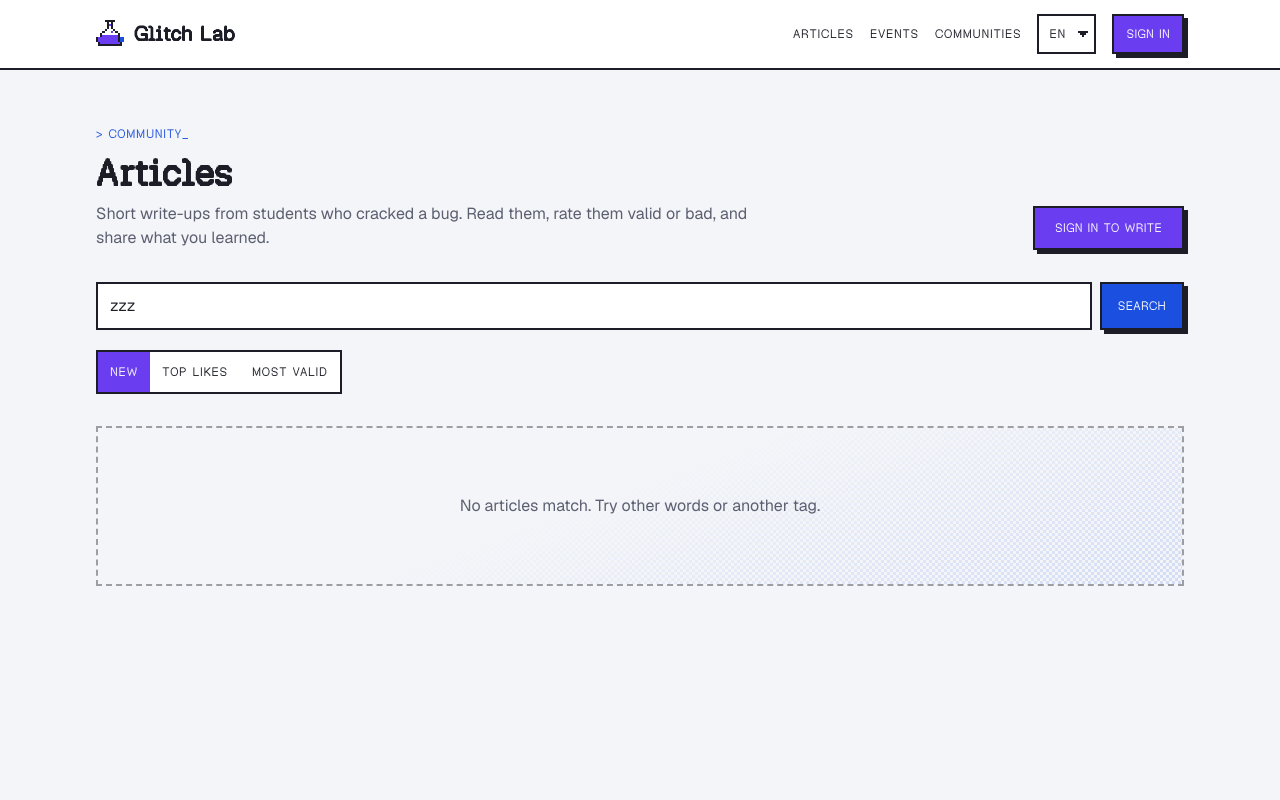
Test: says so when nothing matches, and shows errors
expect the text "No articles match. Try other words or another tag." is shown: met, box 460,494 -> 820,518
Click the button "Most valid". click: (290, 372)
box: 240,352 -> 340,392
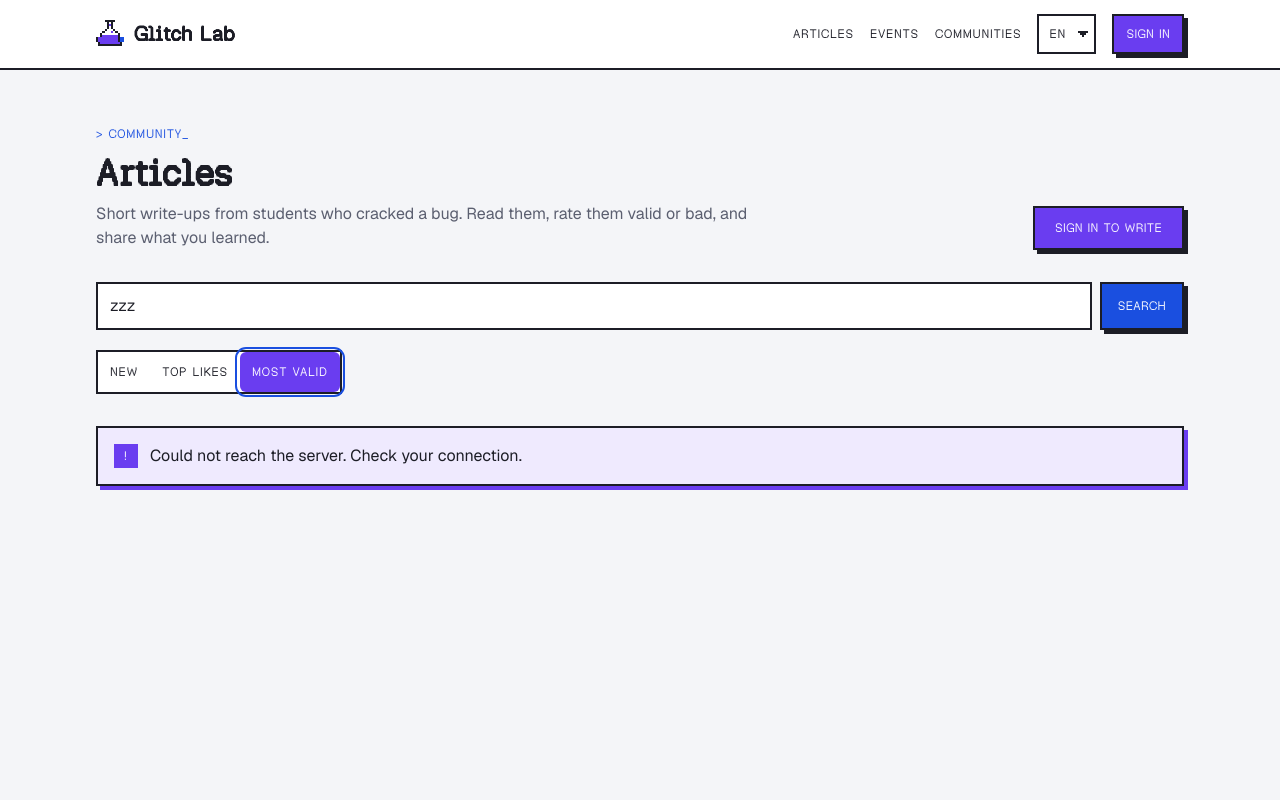
expect the message shows "Could not reach the server.": met, box 150,445 -> 522,466
